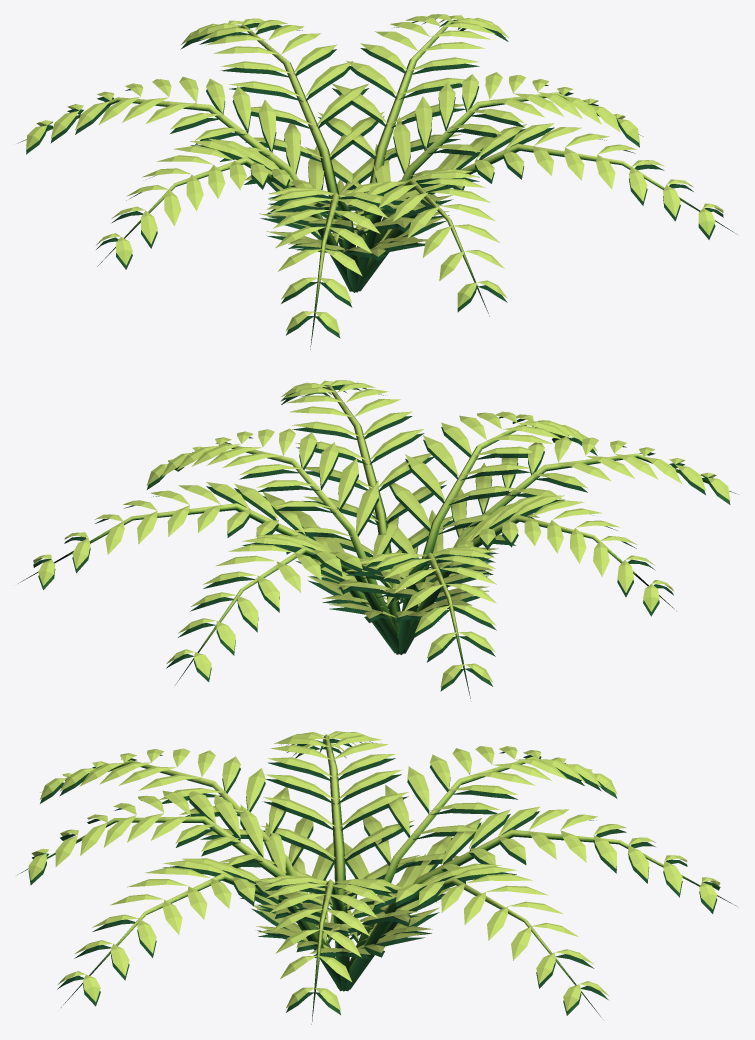
File: Env_Fern_1.glb
The picture shows the model from 3 angles, top to bottom: view 1: azimuth 30°, elevation 25°; view 2: azimuth 150°, elevation 25°; view 3: azimuth 270°, elevation 25°; orthographic projection. The views are drawn at different scales.
Visible parts, largest first — view 1: Env_Fern_1.001; view 2: Env_Fern_1.001; view 3: Env_Fern_1.001.
Boxes of the visible parts, x1,y1,x2,y2 form: Env_Fern_1.001: (18,14,737,349); Env_Fern_1.001: (18,380,736,698); Env_Fern_1.001: (18,731,737,1024).
Bounding box in the file's own units: 2.63 × 0.7875 × 3.
1 material, 1 textured.
